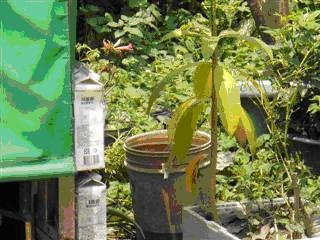bottle: (74, 66, 107, 173)
bucket: (118, 122, 221, 235)
styrofoam: (177, 196, 314, 234)
